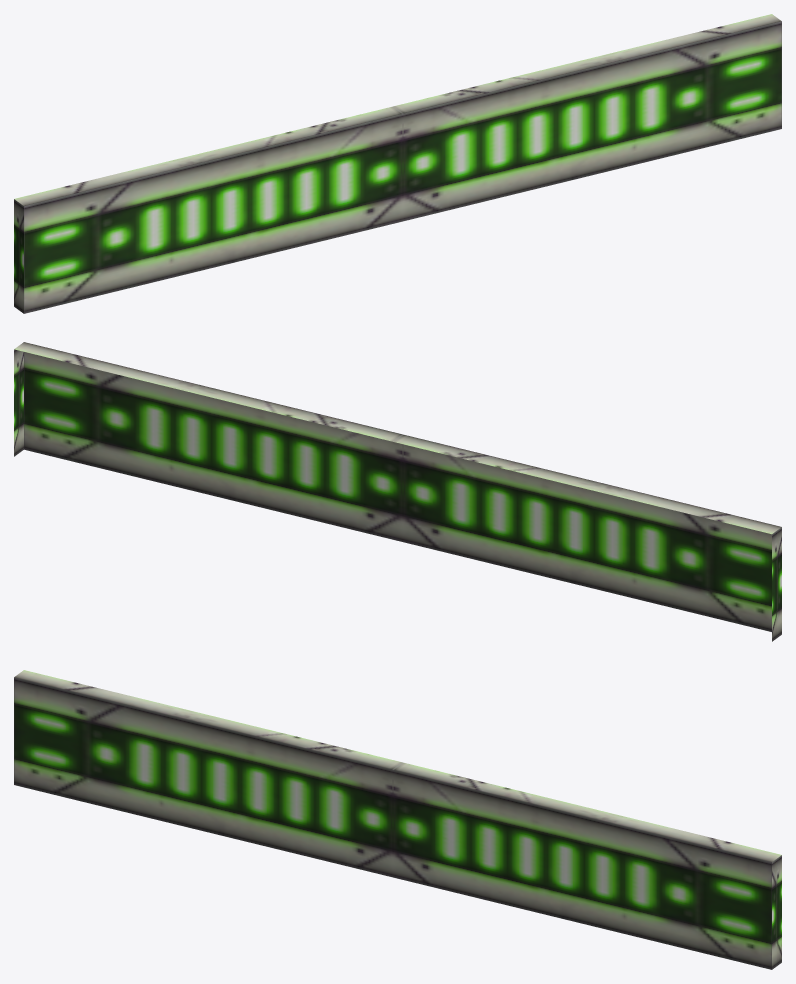
File: rodape2.fbx
3 views of the same model, one above another, from view 1: azimuth 30°, elevation 25°; view 2: azimuth 150°, elevation 25°; view 3: azimuth 330°, elevation 25° (orthographic).
Parts seen in each view (by area): view 1: Cylinder; view 2: Cylinder; view 3: Cylinder.
Boxes of the visible parts, x1=… form: Cylinder: x1=14, y1=14, x2=781, y2=313; Cylinder: x1=14, y1=342, x2=781, y2=641; Cylinder: x1=14, y1=670, x2=781, y2=969.
Size of the model in its own units: 3.51 by 0.476 by 0.0802.
